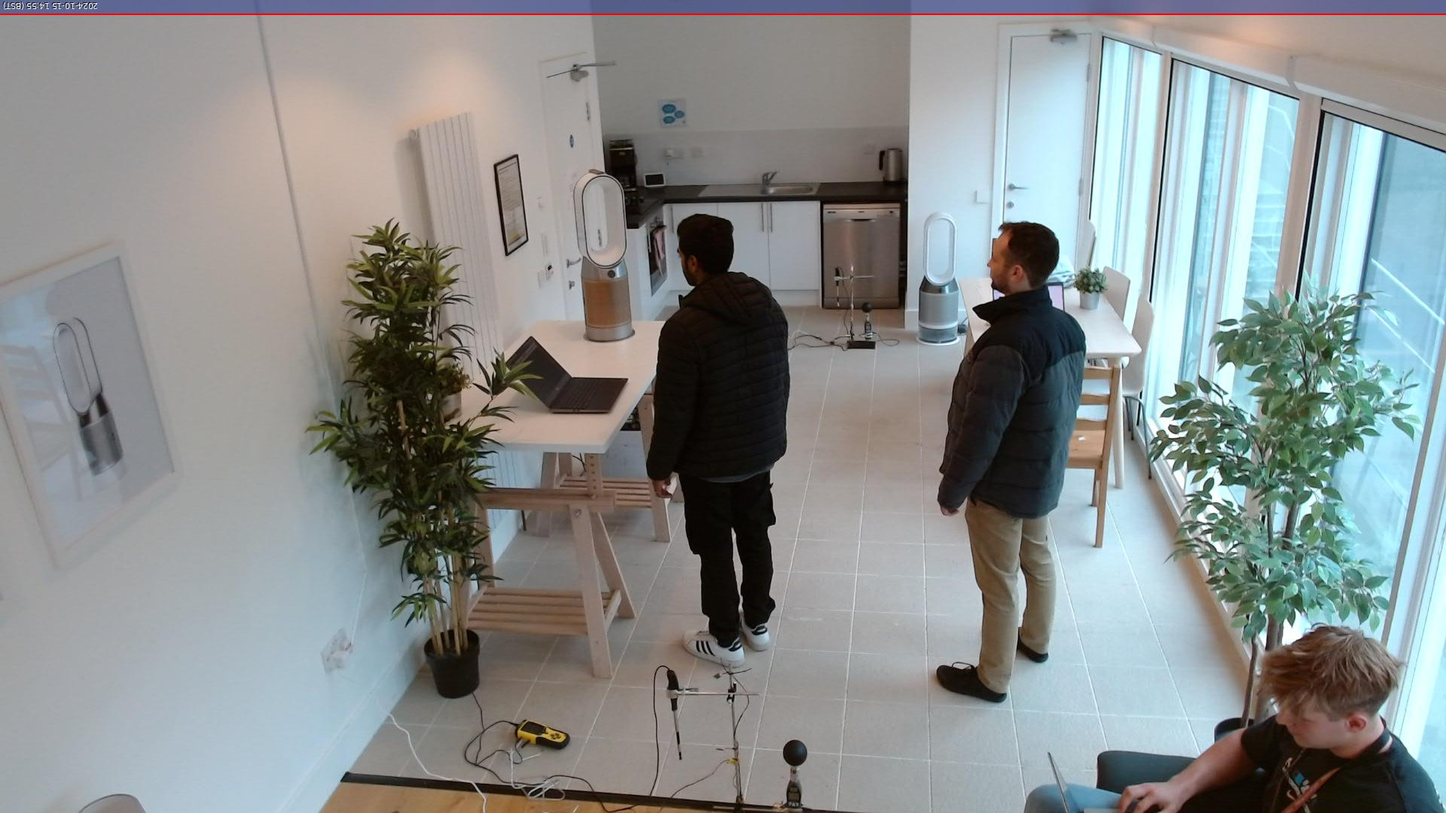coat: (930, 288, 1087, 519), (645, 272, 789, 484)
short sleeve shirt: (1237, 699, 1446, 813)
trousers: (964, 496, 1058, 694), (678, 470, 777, 635), (1022, 778, 1144, 813)
